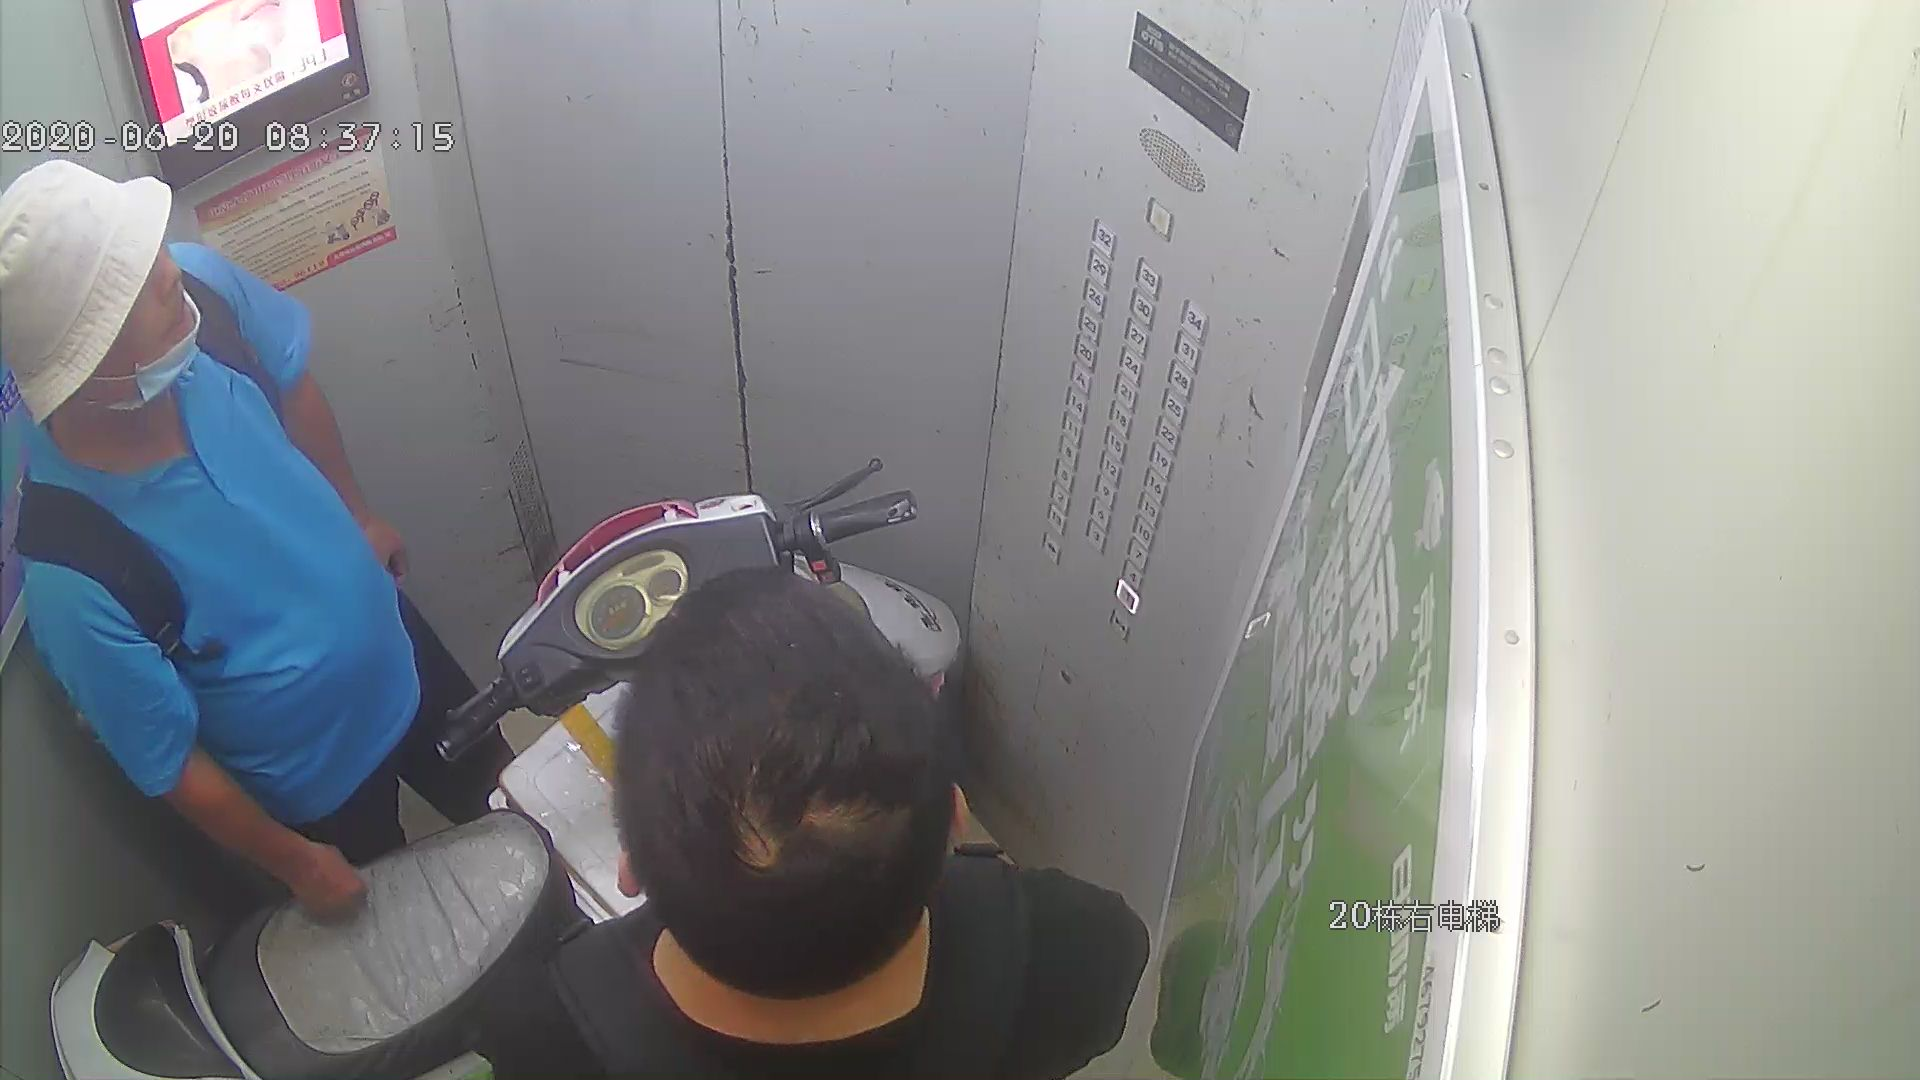Electric-bicycle: (38, 460, 971, 1076)
